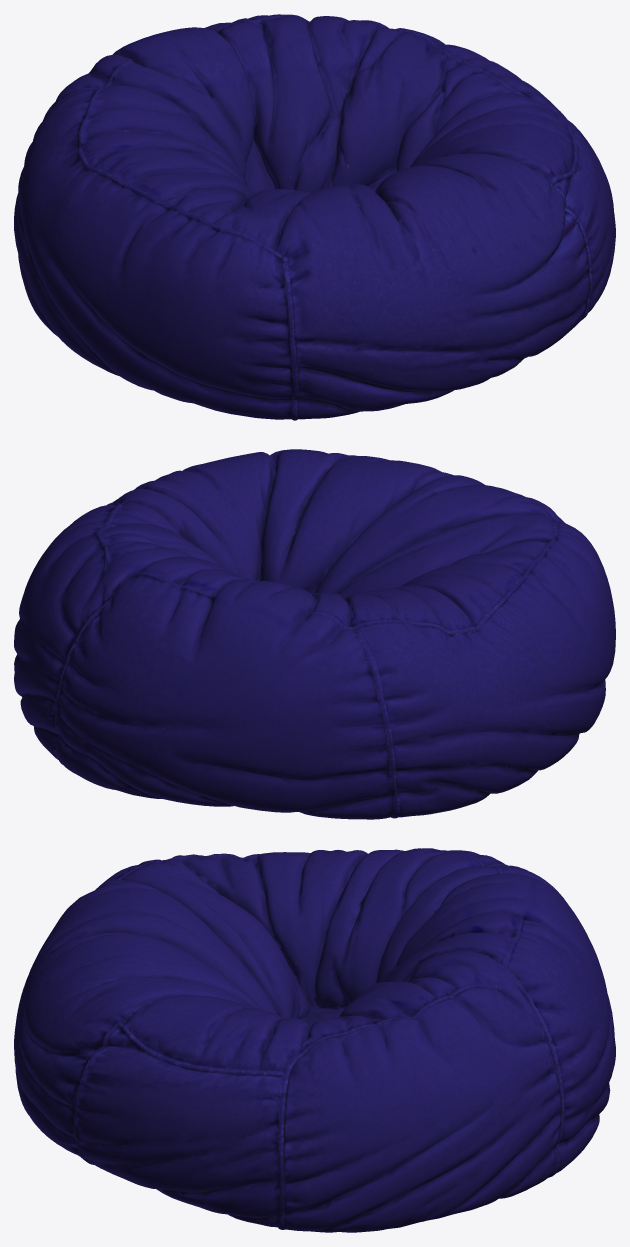
File: beanbag.glb
The picture shows the model from 3 angles, top to bottom: view 1: azimuth 30°, elevation 25°; view 2: azimuth 150°, elevation 25°; view 3: azimuth 270°, elevation 25°; orthographic projection.
Parts seen in each view (by area): view 1: tripo_node_7765bbe5-9013-4ce2-8562-d1b73fa412db; view 2: tripo_node_7765bbe5-9013-4ce2-8562-d1b73fa412db; view 3: tripo_node_7765bbe5-9013-4ce2-8562-d1b73fa412db.
Boxes of the visible parts, x1,y1,x2,y2 form: tripo_node_7765bbe5-9013-4ce2-8562-d1b73fa412db: (14, 14, 615, 420); tripo_node_7765bbe5-9013-4ce2-8562-d1b73fa412db: (14, 449, 615, 819); tripo_node_7765bbe5-9013-4ce2-8562-d1b73fa412db: (14, 848, 615, 1232).
Bounding box in the file's own units: 0.9796 × 0.3755 × 0.9777.
1 material, 1 textured.
